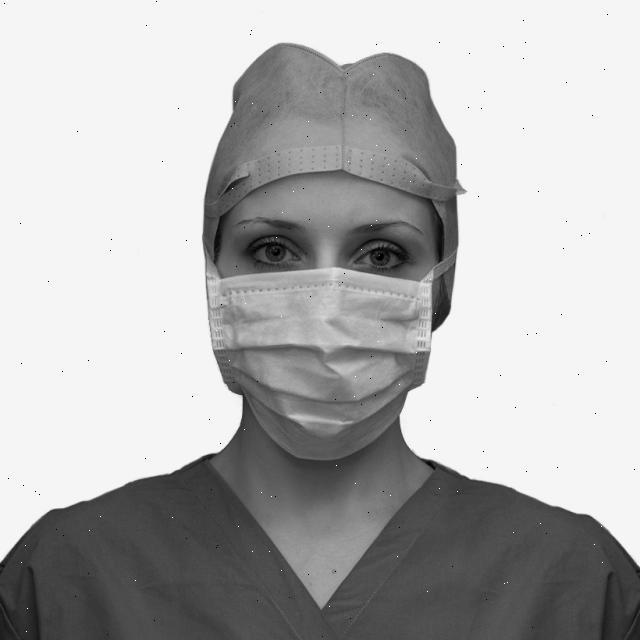fake: (169, 229, 481, 493)
real: (213, 175, 443, 475)
